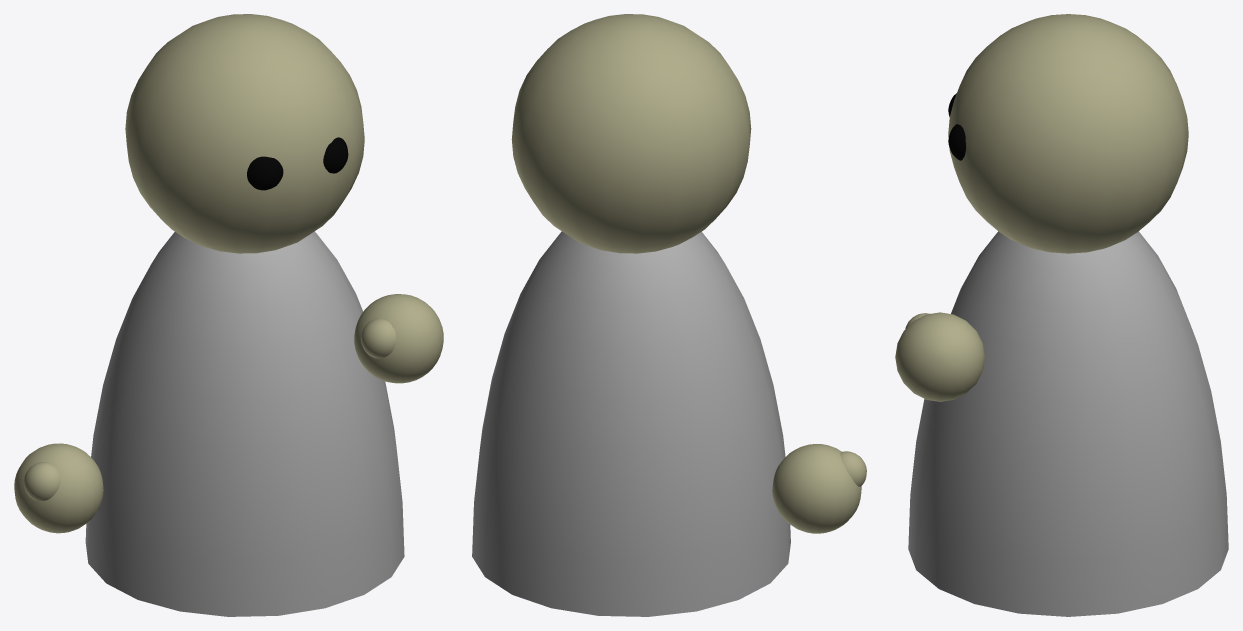
The model's file is PersonPawn_02.fbx.
The picture shows the model from 3 angles, left to right: view 1: azimuth 30°, elevation 25°; view 2: azimuth 150°, elevation 25°; view 3: azimuth 270°, elevation 25°; orthographic projection.
Parts seen in each view (by area): view 1: group5; view 2: group5; view 3: group5.
Boxes of the visible parts, x1,y1,x2,y2 form: group5: [14, 14, 443, 616]; group5: [472, 14, 866, 616]; group5: [895, 14, 1228, 616].
Size of the model in its own units: 95.28 by 75.55 by 131.
